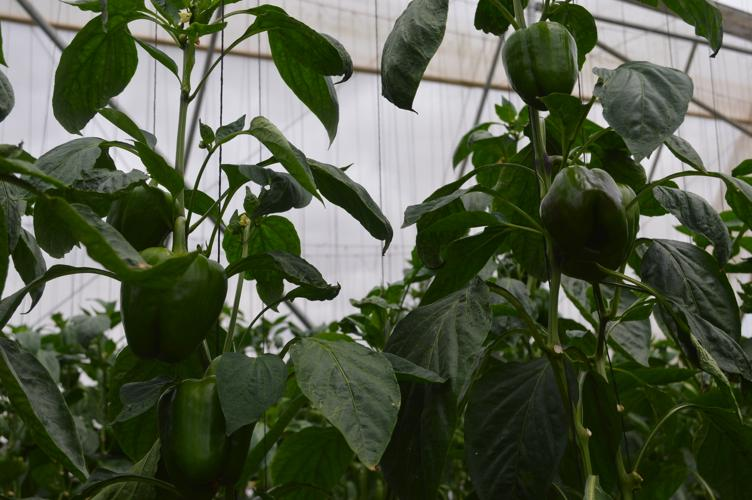BellPepper: (138, 374, 248, 491), (115, 254, 224, 358), (550, 182, 639, 279), (537, 166, 623, 256), (501, 24, 580, 104), (100, 185, 175, 250)
